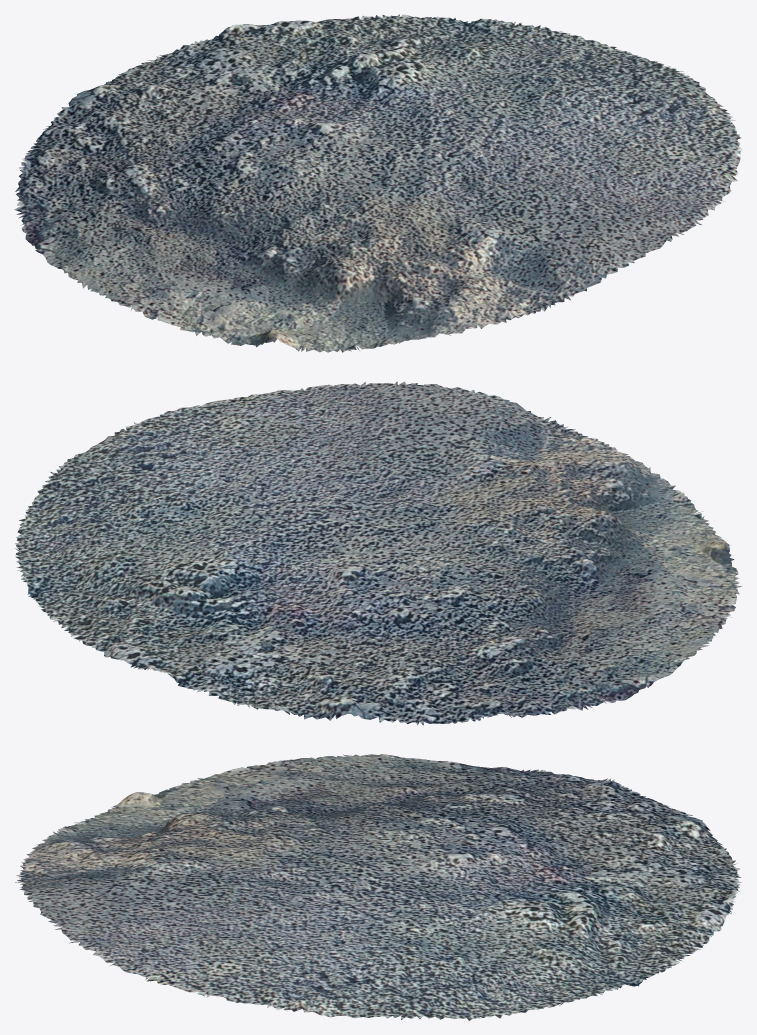
File: dallol-dark-mound-piece.glb
3 views of the same model, one above another, from view 1: azimuth 30°, elevation 25°; view 2: azimuth 150°, elevation 25°; view 3: azimuth 270°, elevation 25° (orthographic).
Visible parts, largest first — view 1: dallol-dark-mound-piece_LOD0; view 2: dallol-dark-mound-piece_LOD0; view 3: dallol-dark-mound-piece_LOD0.
Boxes of the visible parts, box(x1,y1,x2,y2) form: dallol-dark-mound-piece_LOD0: box(14, 14, 742, 352); dallol-dark-mound-piece_LOD0: box(15, 381, 742, 725); dallol-dark-mound-piece_LOD0: box(15, 754, 741, 1020).
Size of what is drawn, in the model's own units: 28.29 by 2.37 by 28.37.
Materials: 1 (1 with a texture image).
